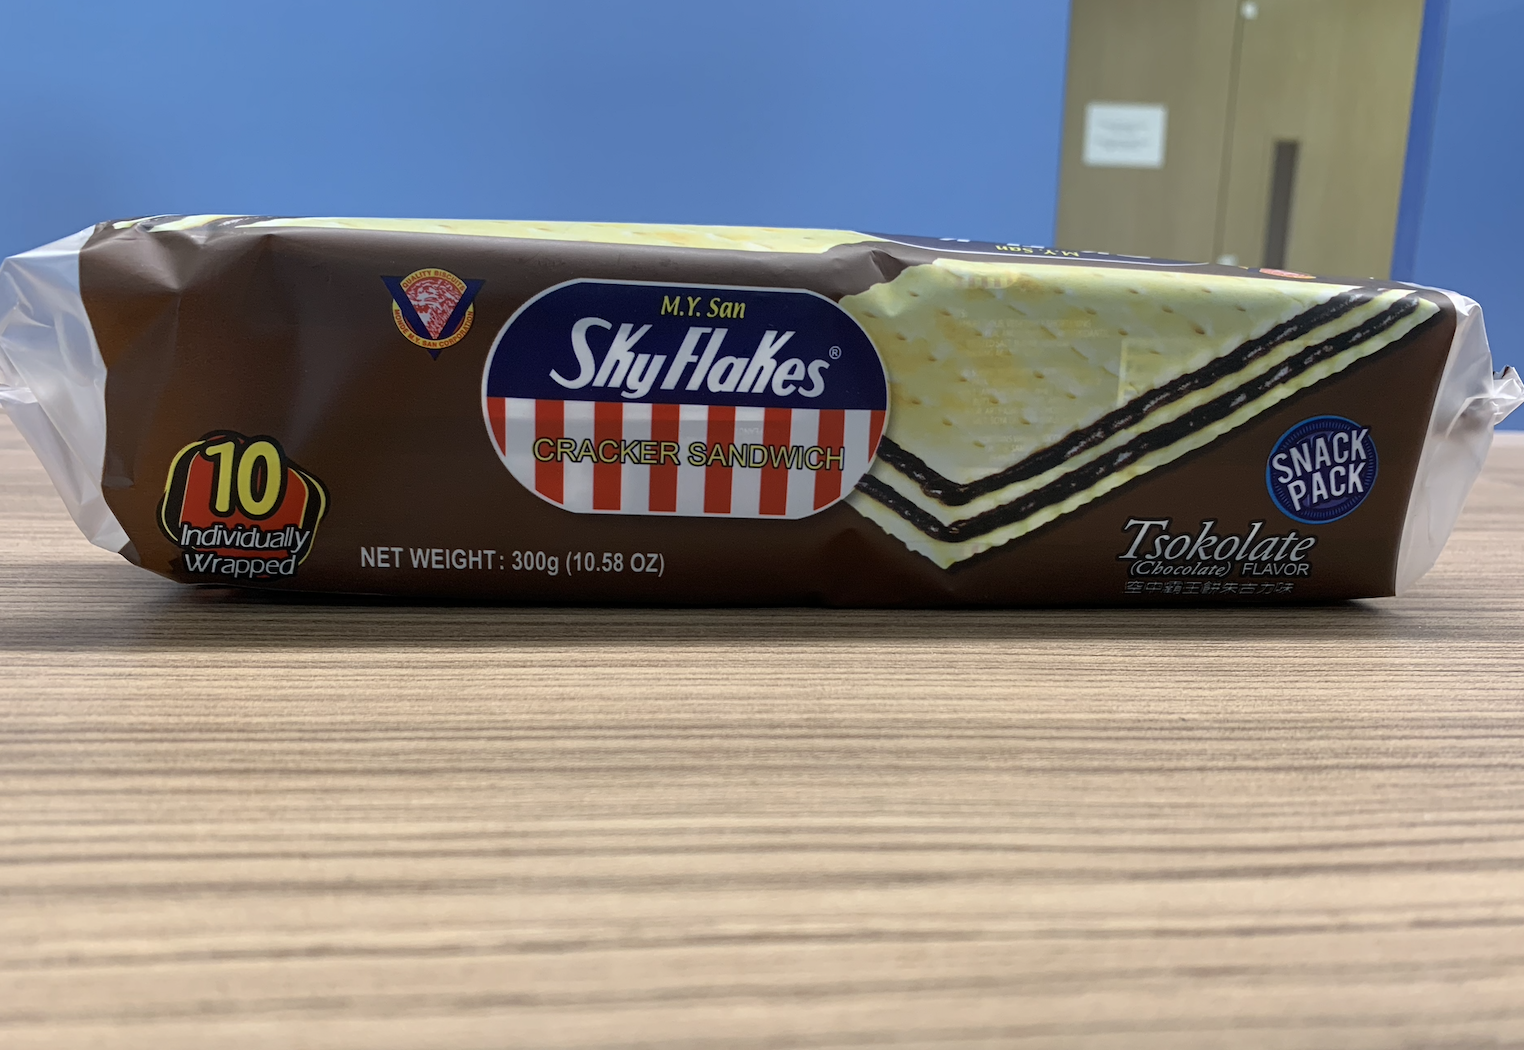crackers_150g: (159, 262, 1361, 575)
